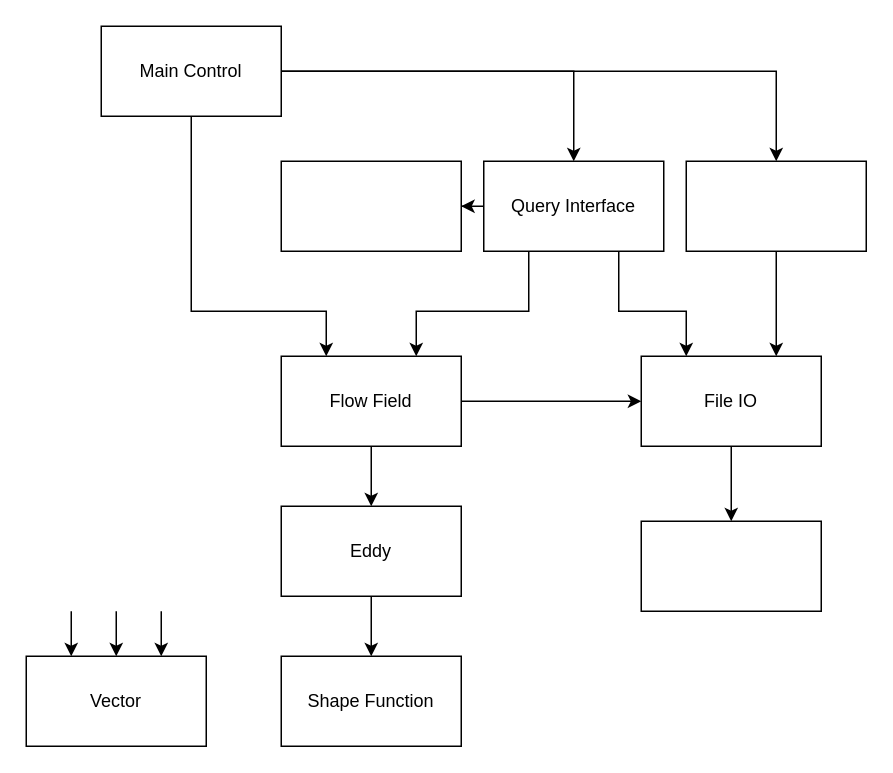
The diagram is 893 pixels wide and 773 high, and some of its shapes have lost their labels. Here are the shapes that lost their labels. From the top down, the centre of each, then its label:
(x=370, y=205): Visualization (Placeholder)
(x=775, y=205): Eddy Profile
(x=730, y=565): Hardware Hiding
